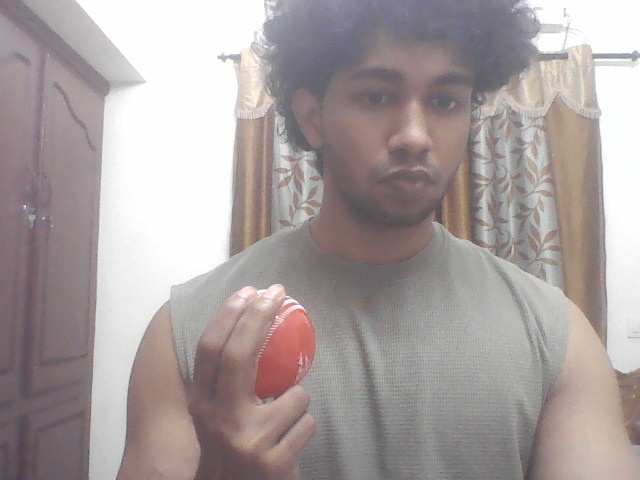cricket_ball: (253, 289, 316, 394)
